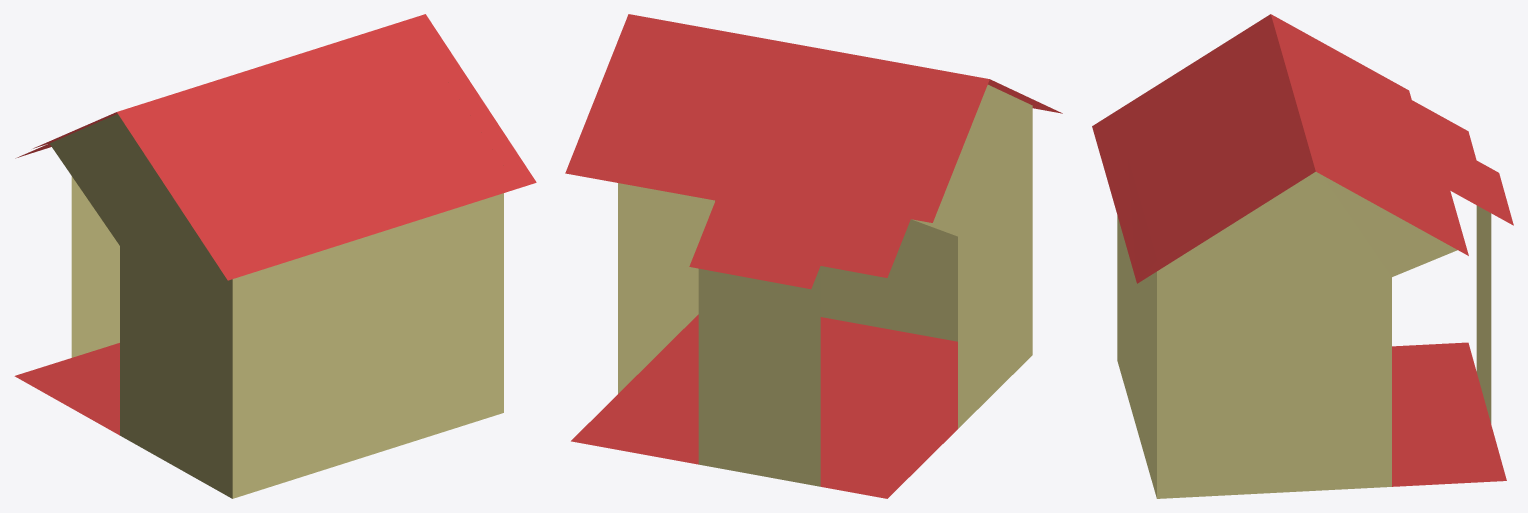
The picture shows the model from 3 angles, left to right: view 1: azimuth 30°, elevation 25°; view 2: azimuth 150°, elevation 25°; view 3: azimuth 270°, elevation 25°; orthographic projection. The views are drawn at different scales.
Size of the model in its own units: 13.58 by 13.94 by 11.99.
